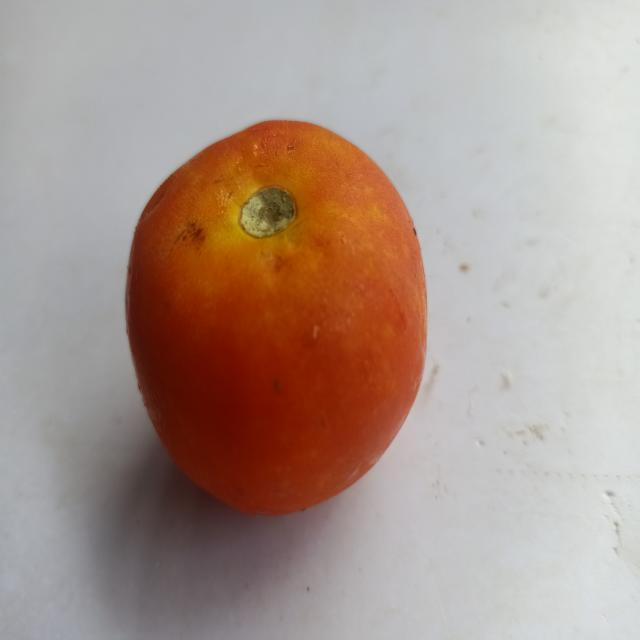Tomato: (106, 75, 450, 572)
